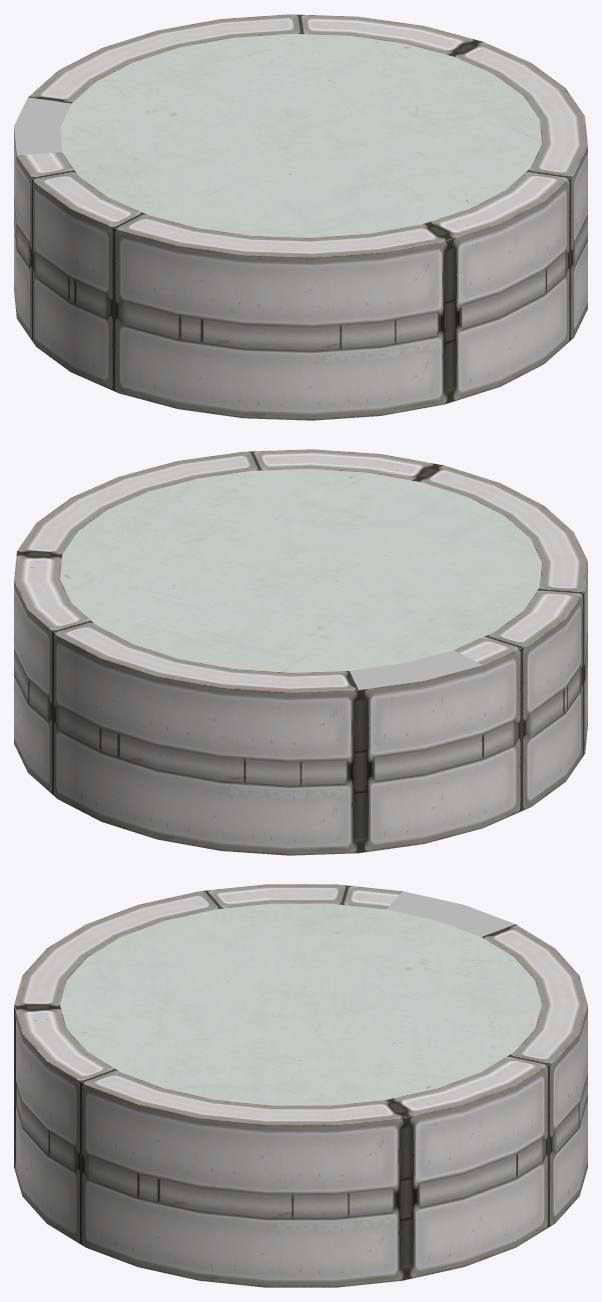
Rendered from STA20_kroganpillar.FBX.
The picture shows the model from 3 angles, top to bottom: view 1: azimuth 30°, elevation 25°; view 2: azimuth 150°, elevation 25°; view 3: azimuth 270°, elevation 25°; orthographic projection.
Parts seen in each view (by area): view 1: STA20_kroganpillar; view 2: STA20_kroganpillar; view 3: STA20_kroganpillar.
Part boxes in pixels (x1,y1,x2,y2): STA20_kroganpillar: [14, 14, 587, 420]; STA20_kroganpillar: [14, 449, 587, 855]; STA20_kroganpillar: [14, 884, 587, 1287].
Size of the model in its own units: 2.81 by 0.8839 by 2.83.
